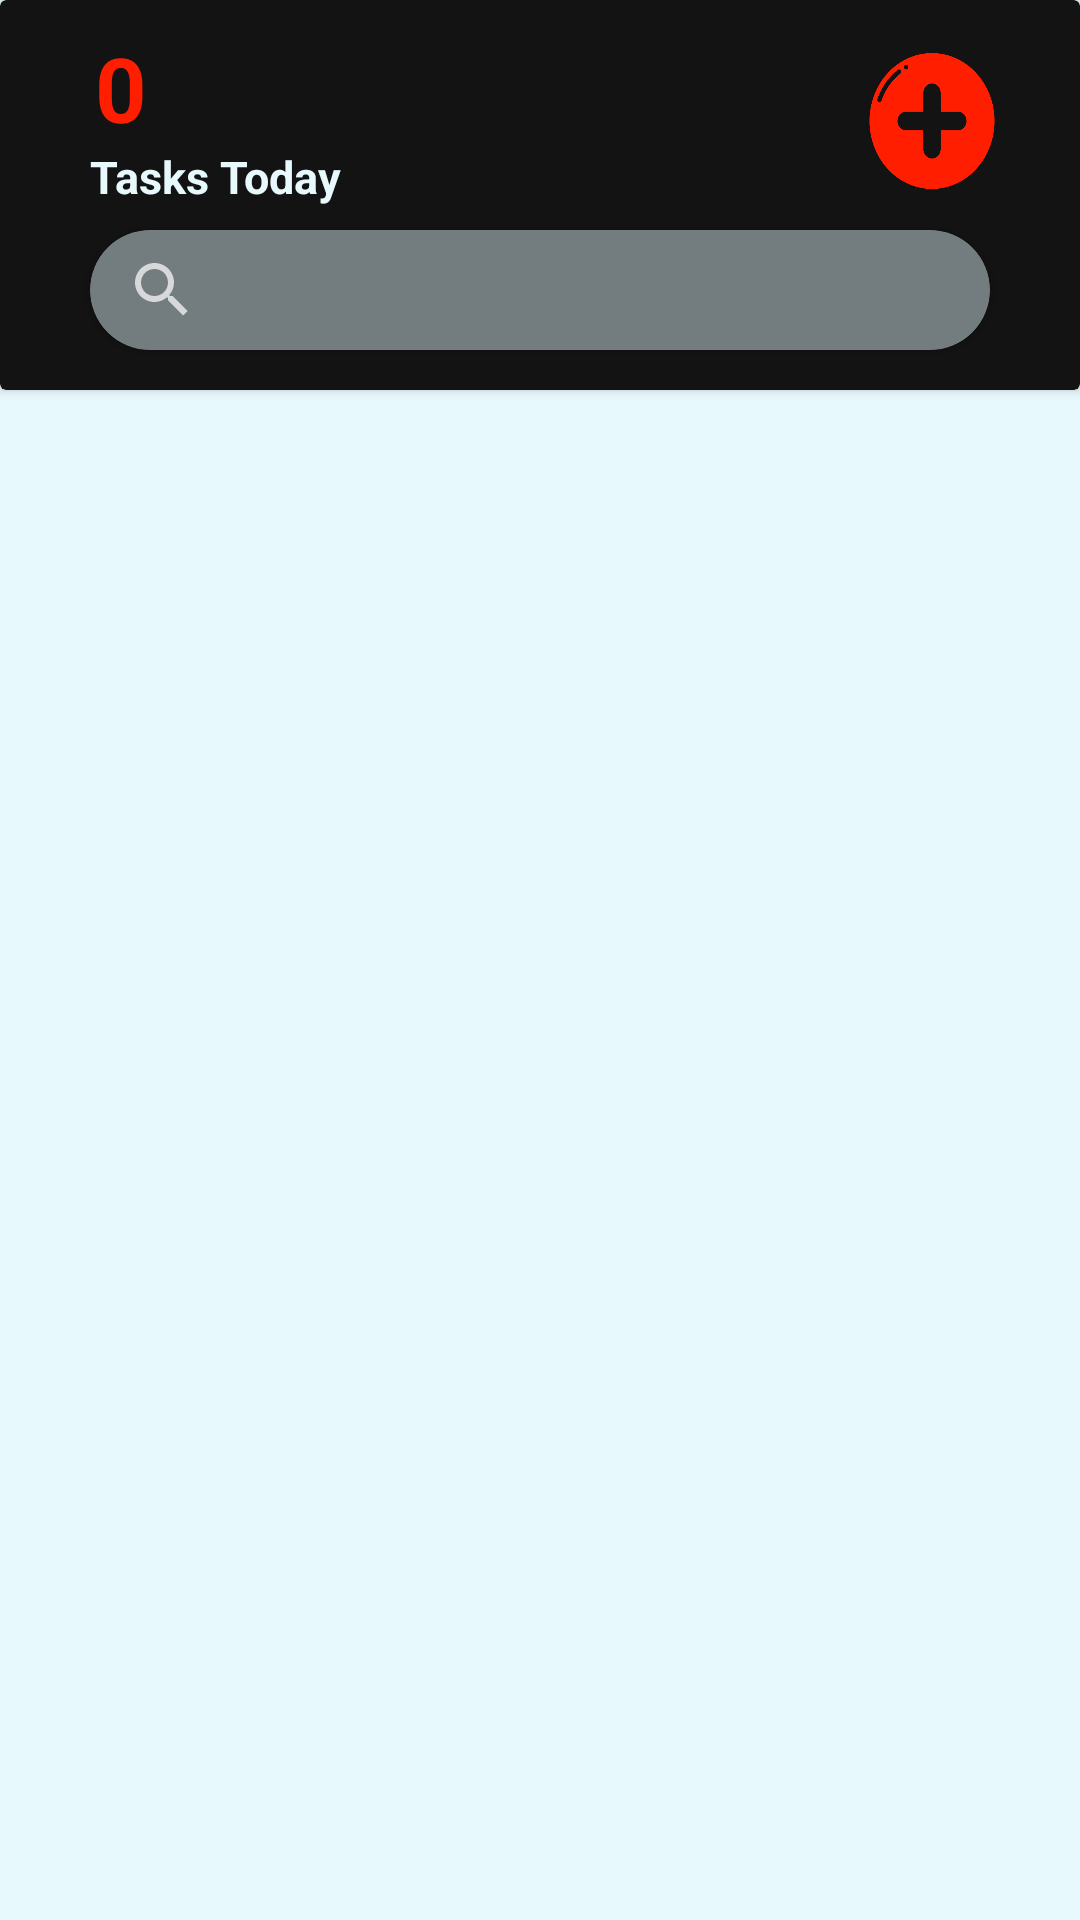

Where to tap for icons on this 1080w x 1920h app screen, as [x,y]:
addbtn: [932,121]
